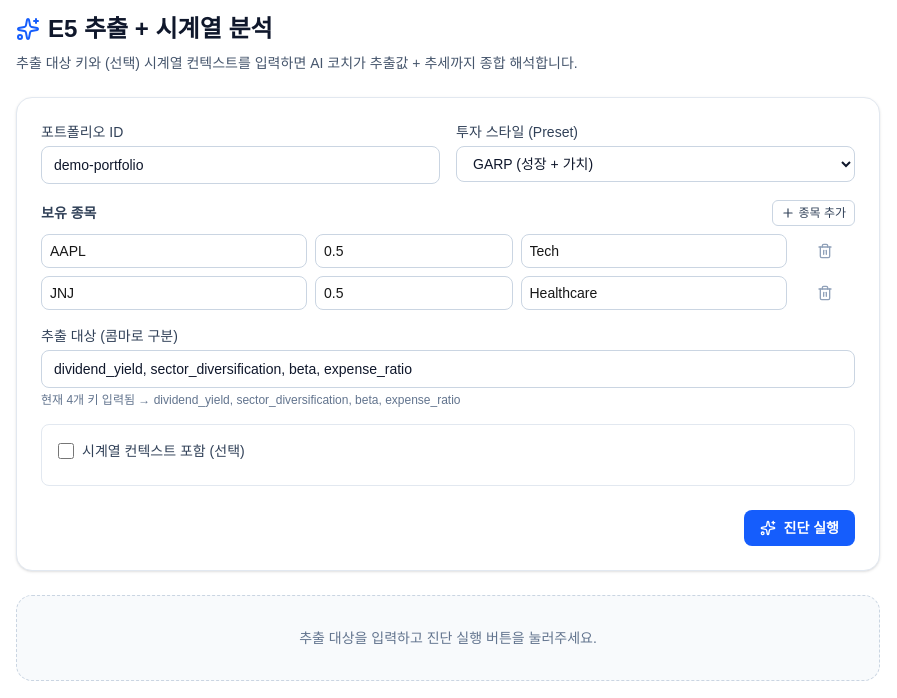
Scenario: E5 coach page (E5CoachContent) › error-path: 500 → role=alert + 친화 문구 (원시 노출 없음)
Click the button "진단 실행" at x=799, y=528, box 744,510 -> 855,546
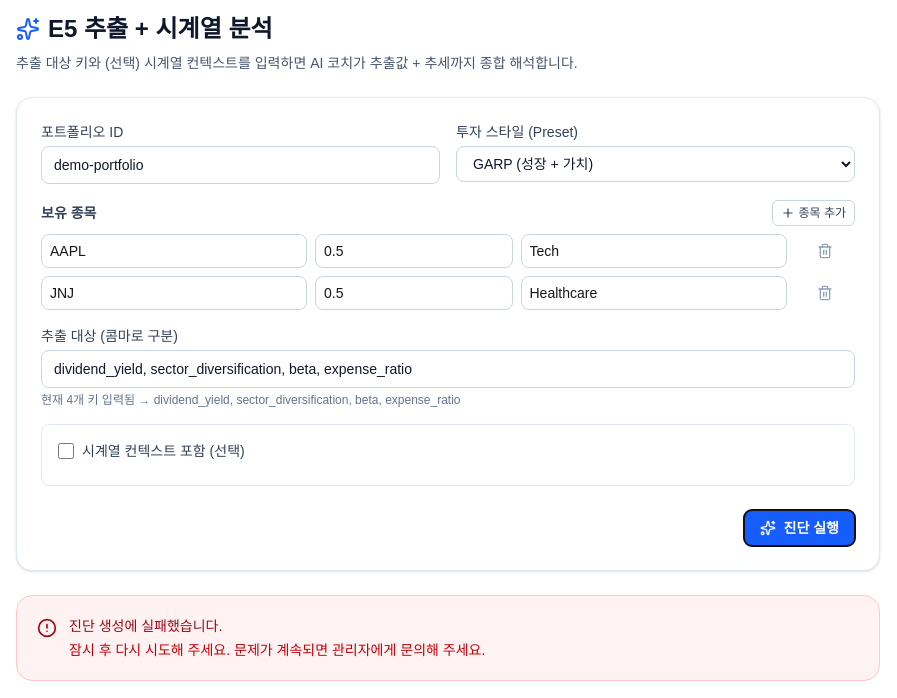
Expected: the message "진단 생성에 실패했습니다. 잠시 후 다시 시도해 주세요. 문제가 계속되면 관리자에게 문의해 주세요." is shown, 16,595 -> 880,681
Expected: the text "진단 생성에 실패했습니다." is shown, 69,618 -> 222,634
